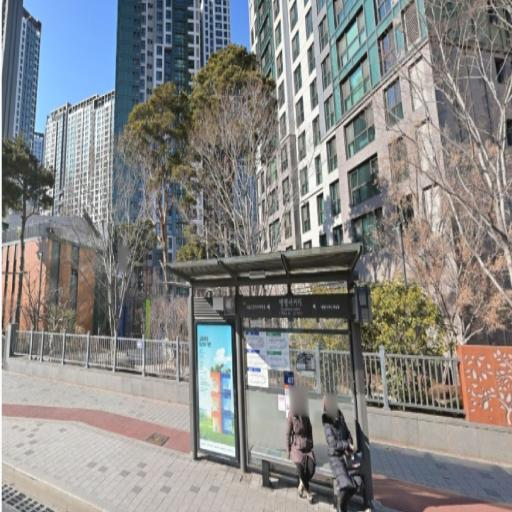bicycle: (169, 244, 373, 506)
